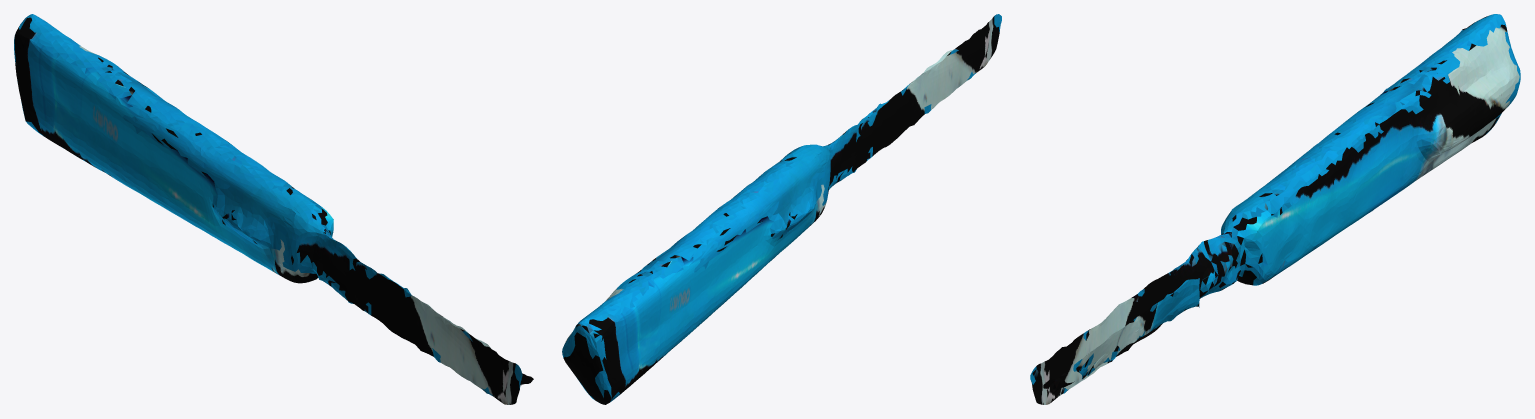
Rendered from scan_align.obj.
3 views of the same model, side by side, from view 1: azimuth 30°, elevation 25°; view 2: azimuth 150°, elevation 25°; view 3: azimuth 330°, elevation 25° (orthographic). The views are drawn at different scales.
Parts seen in each view (by area): view 1: all; view 2: all; view 3: all.
Part boxes in pixels (x1,y1,x2,y2): all: (14, 14, 533, 404); all: (562, 14, 1001, 404); all: (1030, 14, 1520, 404).
Size of the model in its own units: 0.0135 by 0.022 by 0.1822.
